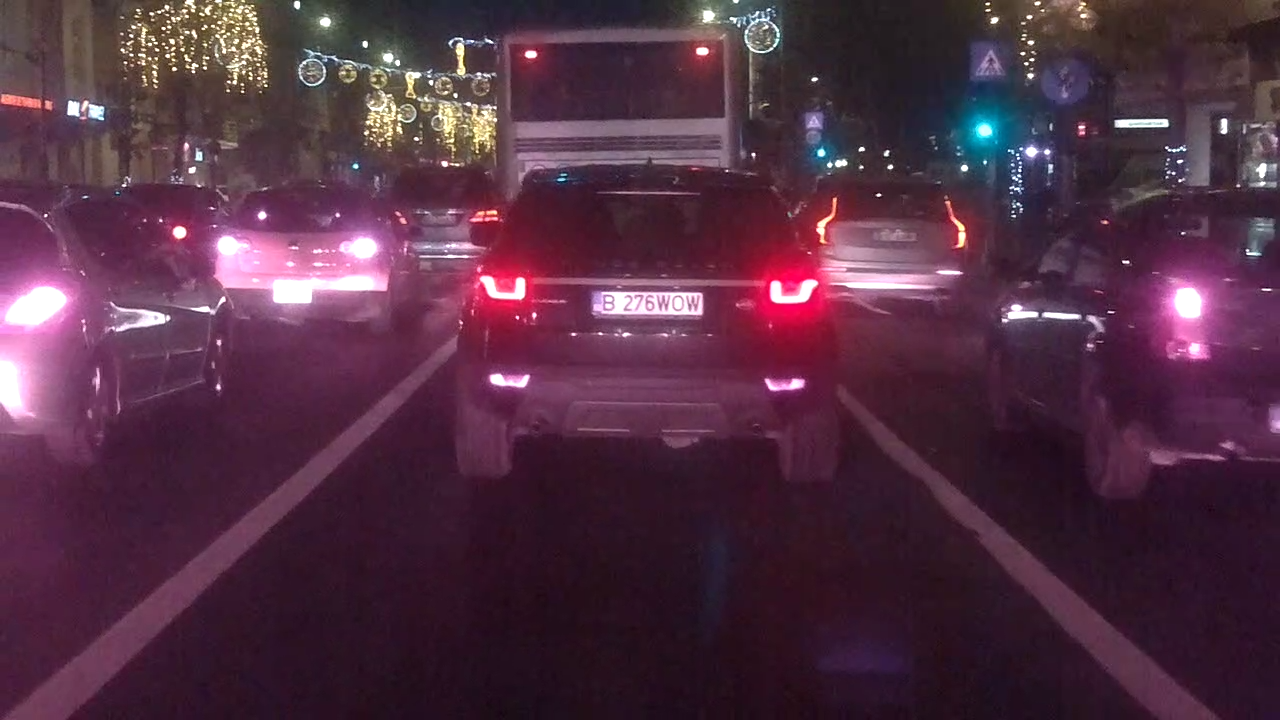license-plate: (588, 286, 708, 322)
